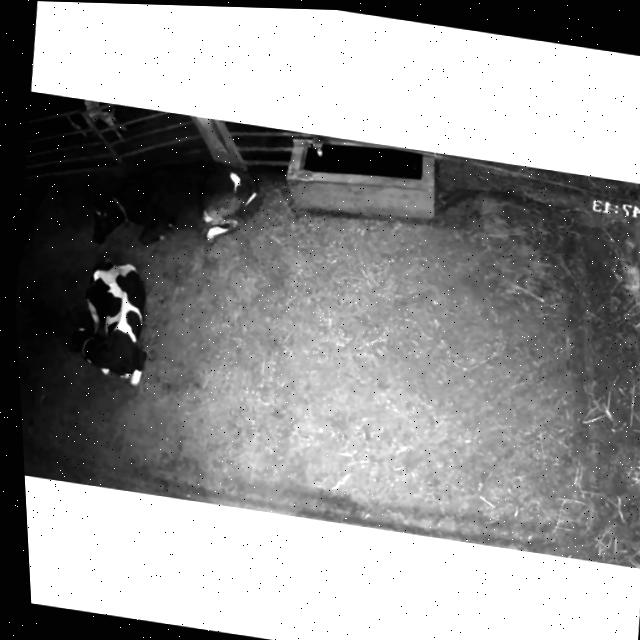lay: (64, 132, 272, 277), (50, 245, 170, 404)
